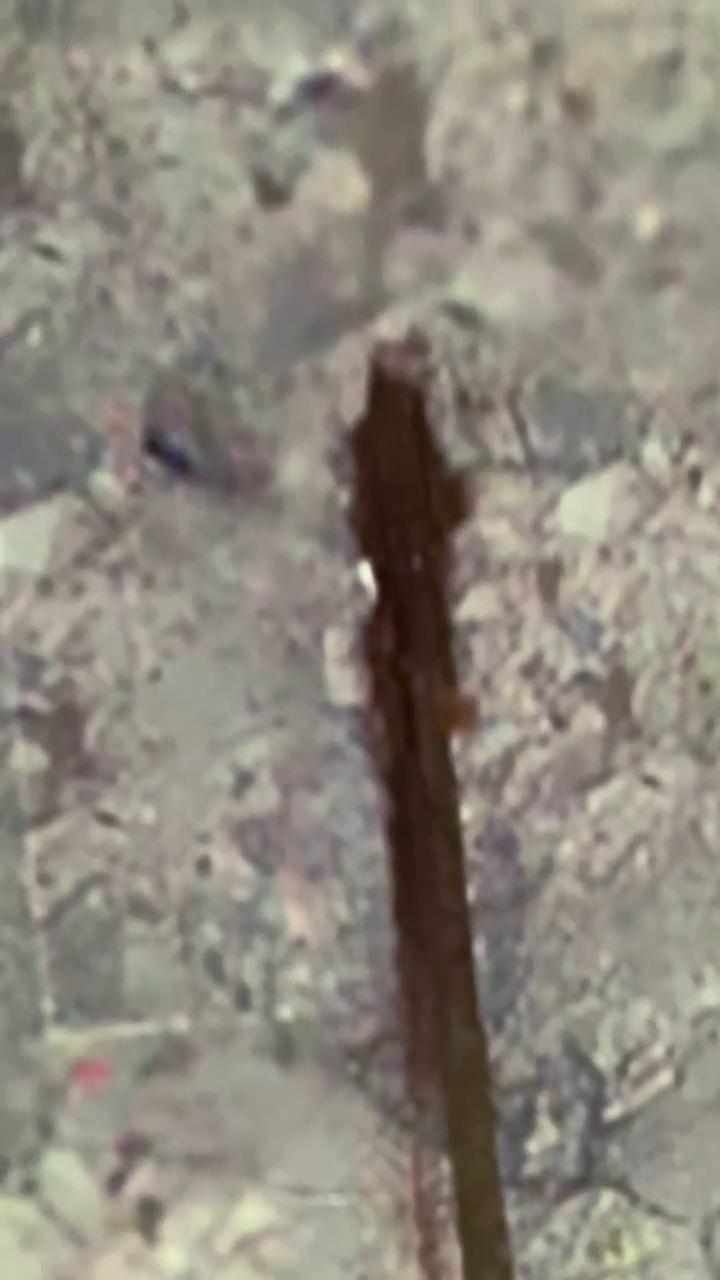Exposed reinforcement: (346, 343, 517, 1280)
